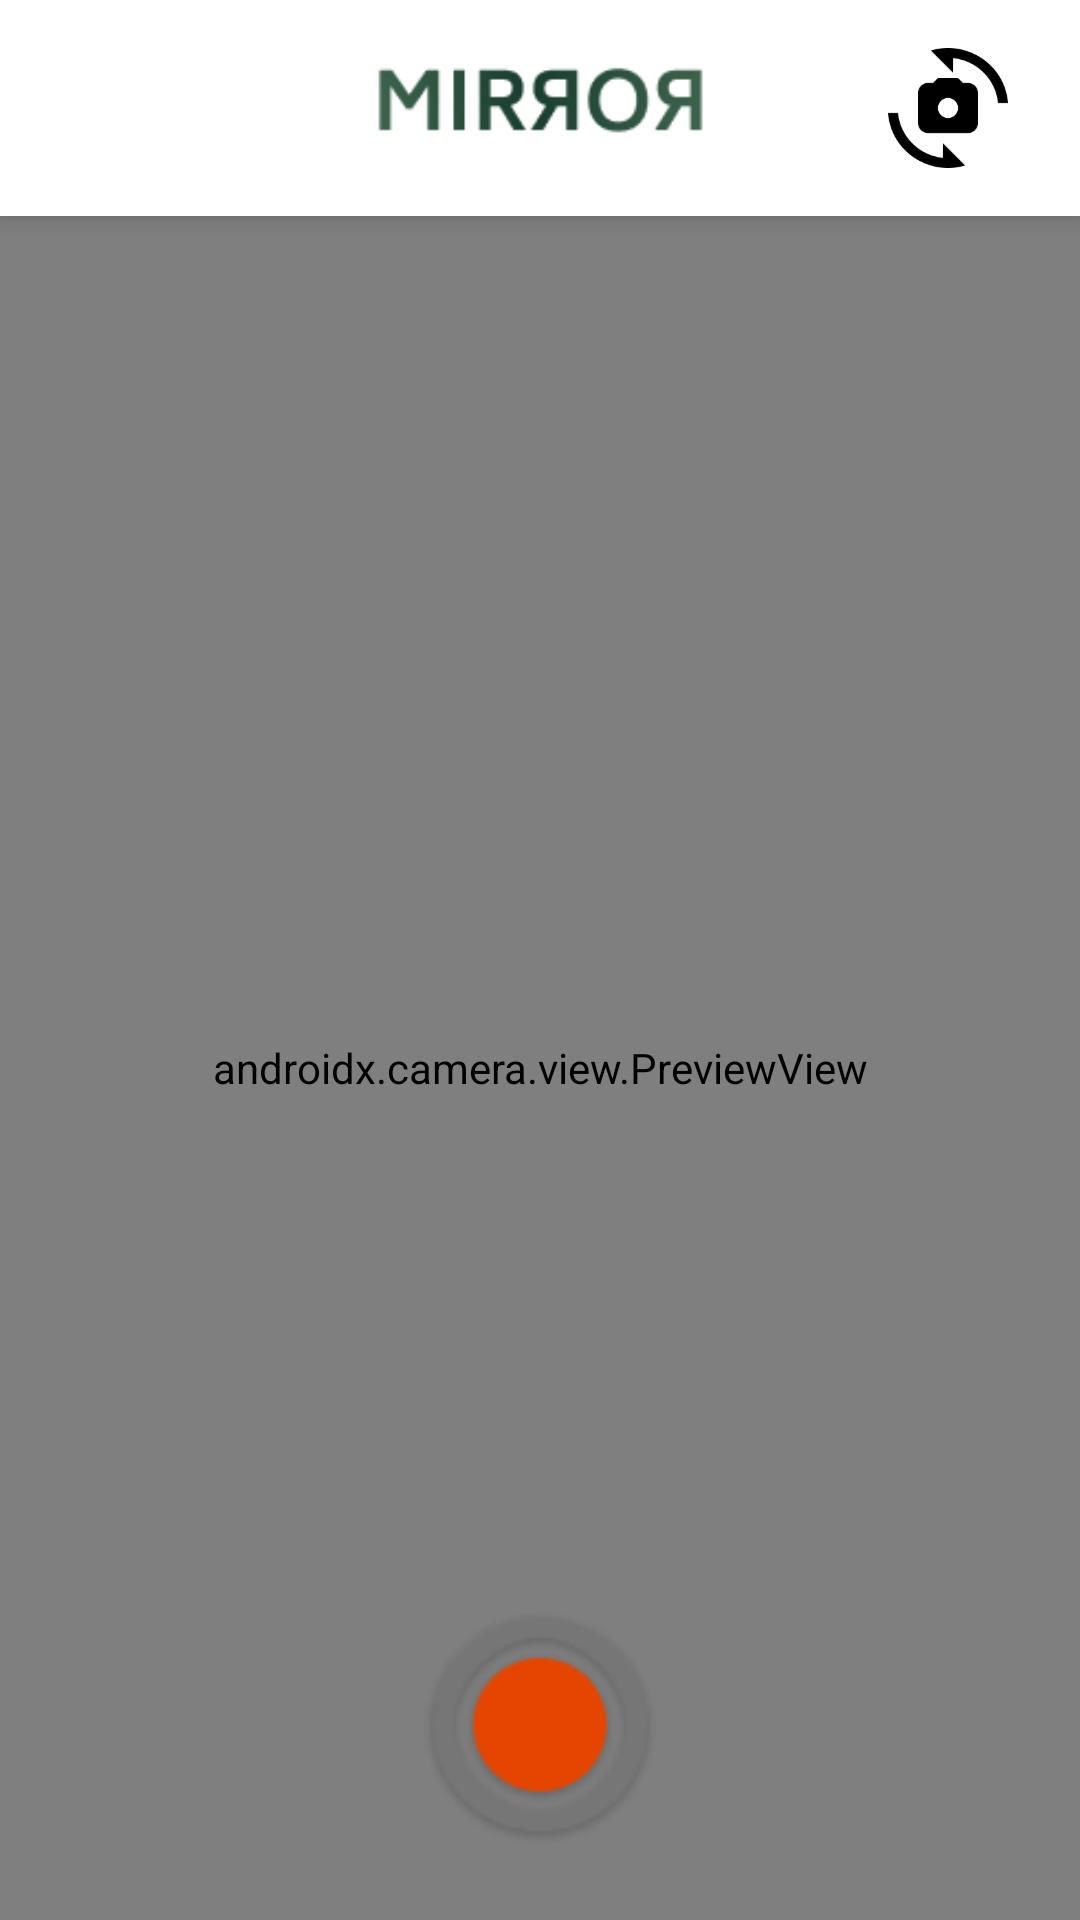

Locate icon controls on the screen. Image size 1080 x 1920, boxes as (x1, y1, x2, y2).
record: (472, 1657, 608, 1793)
switch camera: (888, 48, 1008, 168)
